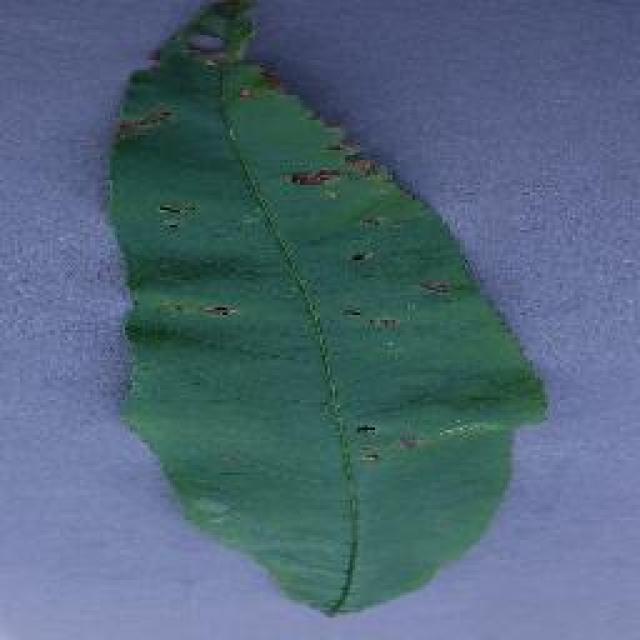Peach_Bacterial_Spot: (104, 60, 474, 438)
